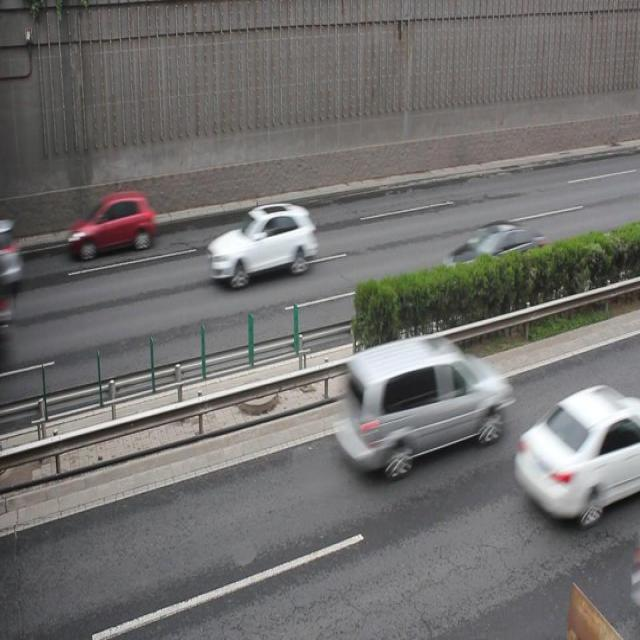car: (510, 380, 640, 522), (207, 200, 316, 286), (441, 220, 544, 297), (67, 192, 154, 257)
truck: (331, 332, 507, 478)
